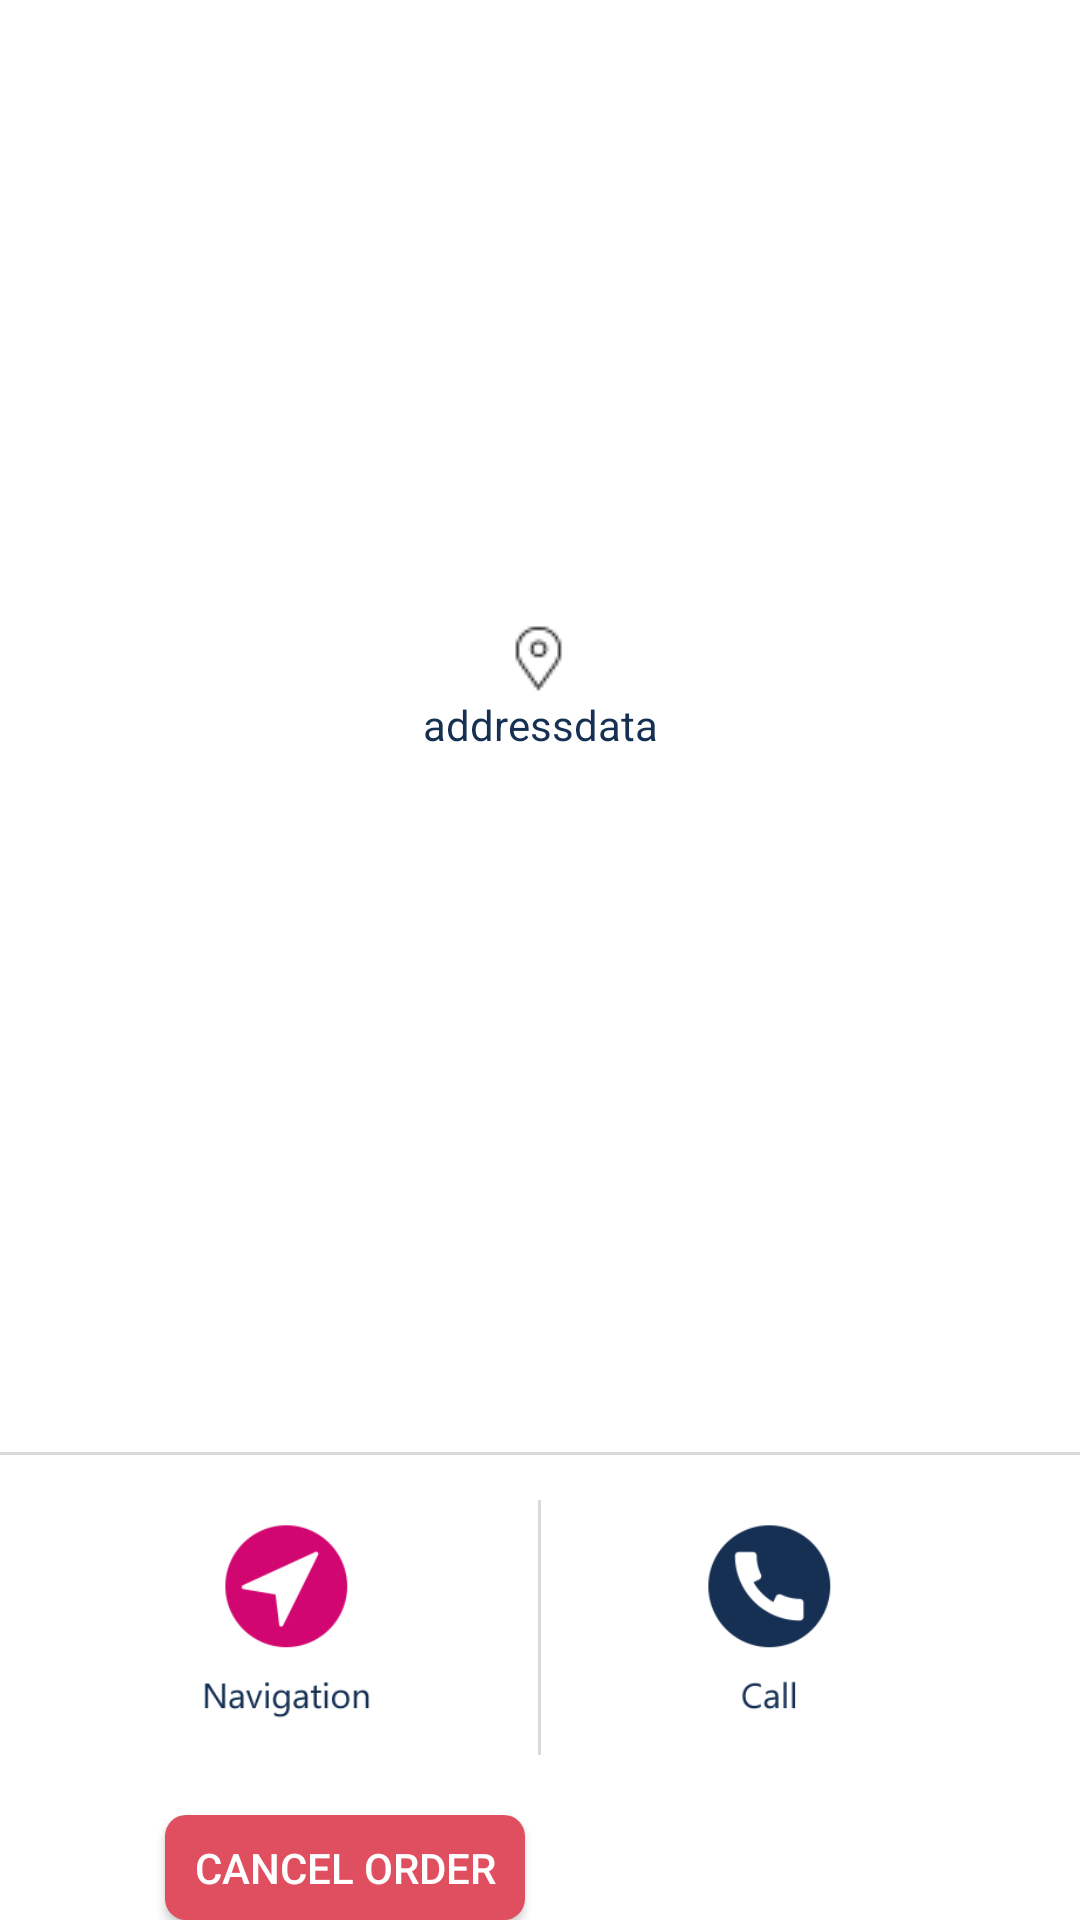

Named icons in this screenshot (1080×1920) and their centers, (x=x, y=y):
location: (x=538, y=658)
